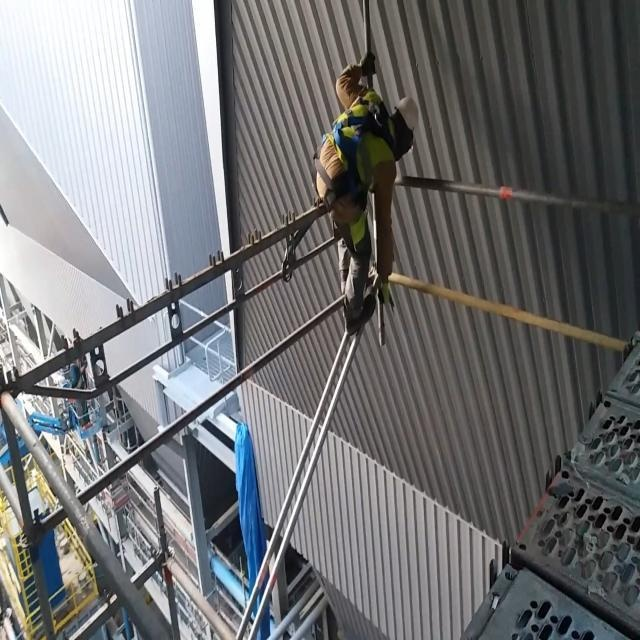Arnes_seguridad: (321, 86, 393, 221)
